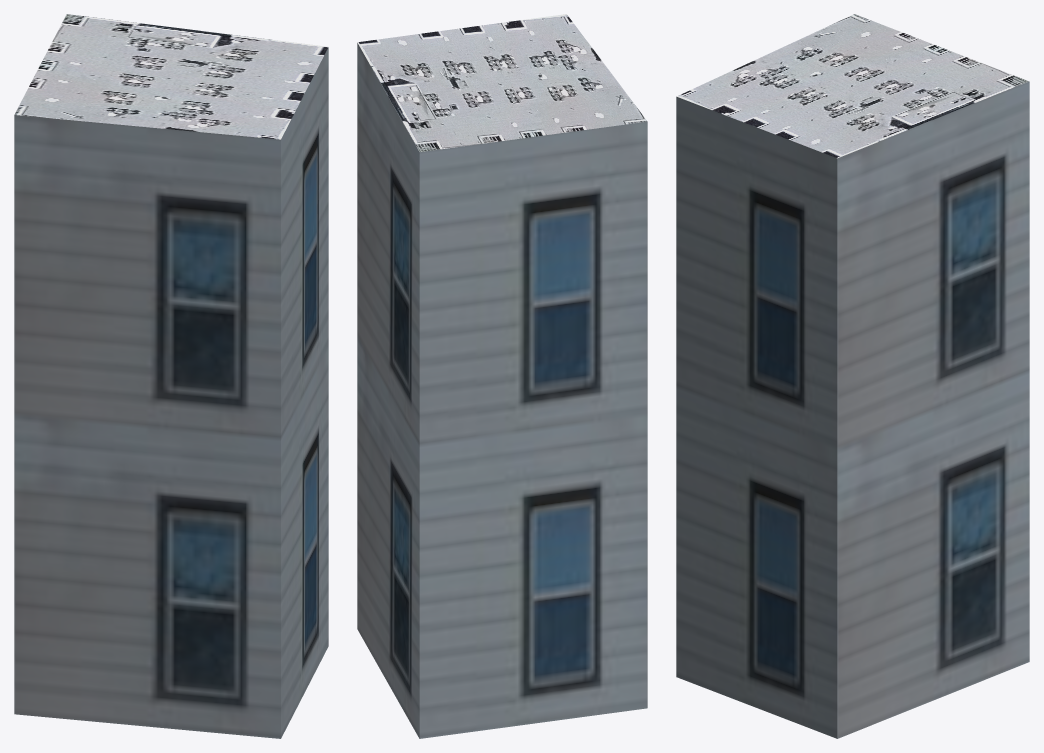
Rendered from ResTex__1696.fbx.
3 views of the same model, side by side, from view 1: azimuth 30°, elevation 25°; view 2: azimuth 150°, elevation 25°; view 3: azimuth 270°, elevation 25° (orthographic). The views are drawn at different scales.
Visible parts, largest first — view 1: CityEngineMaterial_18_m, CityEngineMaterial_m; view 2: CityEngineMaterial_18_m, CityEngineMaterial_m; view 3: CityEngineMaterial_18_m, CityEngineMaterial_m.
Boxes of the visible parts, x1,y1,x2,y2 form: CityEngineMaterial_18_m: [14, 47, 328, 738]; CityEngineMaterial_m: [14, 14, 328, 139]; CityEngineMaterial_18_m: [357, 43, 647, 738]; CityEngineMaterial_m: [357, 14, 647, 151]; CityEngineMaterial_18_m: [676, 81, 1029, 738]; CityEngineMaterial_m: [677, 14, 1029, 158].
Size of the model in its own units: 3.2 by 6 by 3.31.
2 materials, 2 textured.
